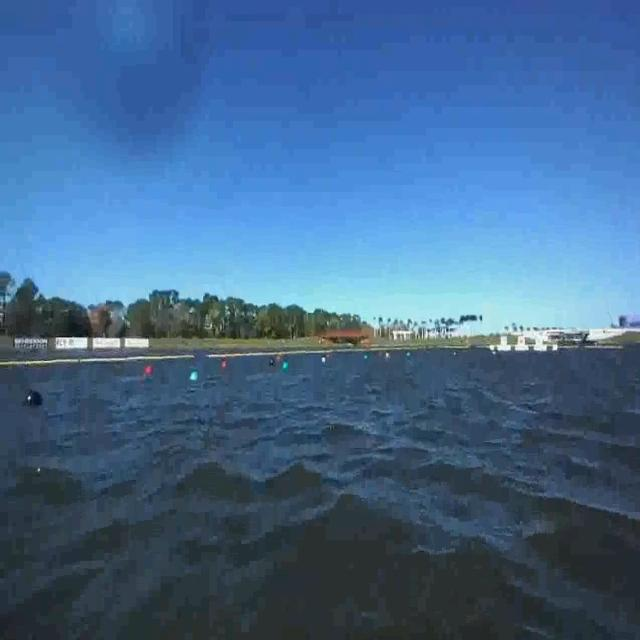black-buoy: (24, 388, 44, 408)
green-buoy: (190, 366, 200, 386), (282, 361, 289, 370)
red-buoy: (145, 364, 153, 374)
